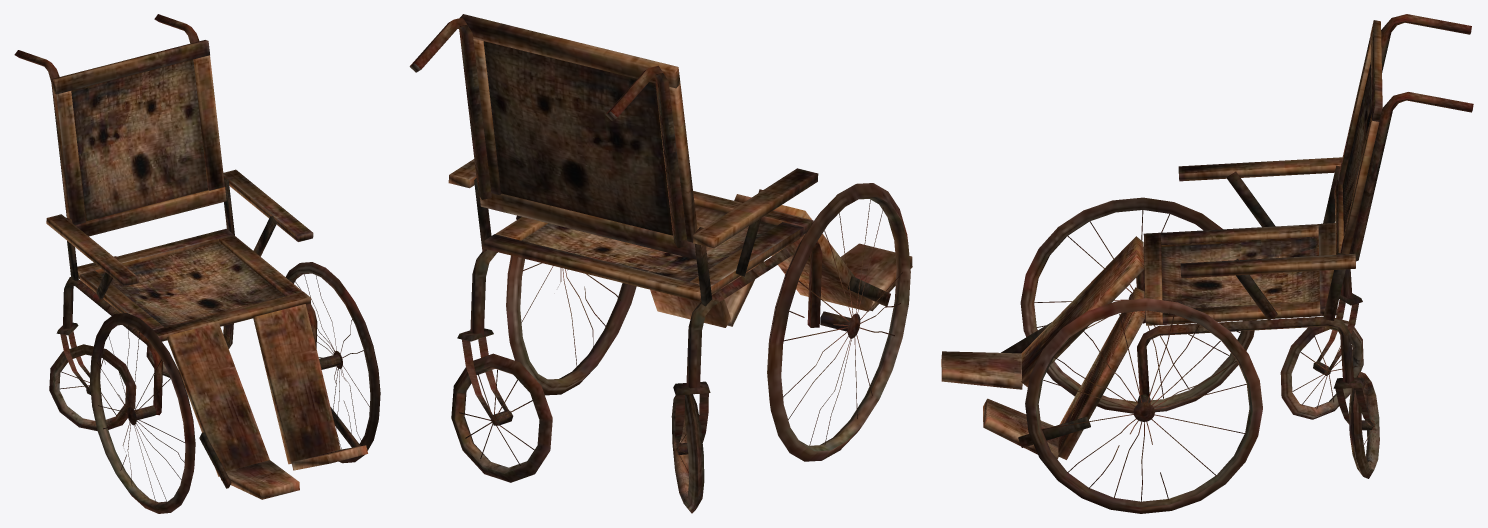
File: rusty wheelchair.fbx
3 views of the same model, side by side, from view 1: azimuth 30°, elevation 25°; view 2: azimuth 150°, elevation 25°; view 3: azimuth 270°, elevation 25° (orthographic). The views are drawn at different scales.
Visible parts, largest first — view 1: DrawCall_019_000_1, DrawCall_019_1, DrawCall_018_1, DrawCall_019_003_1, DrawCall_019_001_1; view 2: DrawCall_019_000_1, DrawCall_019_1, DrawCall_018_000_1, DrawCall_018_1, DrawCall_019_003_1, DrawCall_019_002_1, DrawCall_019_001_1; view 3: DrawCall_019_000_1, DrawCall_018_1, DrawCall_019_1, DrawCall_019_003_1, DrawCall_018_000_1, DrawCall_019_002_1, DrawCall_019_001_1.
Boxes of the visible parts, x1,y1,x2,y2 form: DrawCall_019_000_1: [14, 14, 367, 499]; DrawCall_019_1: [90, 313, 195, 513]; DrawCall_018_1: [285, 262, 380, 463]; DrawCall_019_003_1: [49, 344, 136, 430]; DrawCall_019_001_1: [56, 322, 90, 389]; DrawCall_019_000_1: [409, 14, 912, 388]; DrawCall_019_1: [767, 183, 910, 461]; DrawCall_018_000_1: [451, 353, 552, 482]; DrawCall_018_1: [506, 255, 636, 395]; DrawCall_019_003_1: [671, 394, 704, 513]; DrawCall_019_002_1: [457, 328, 508, 421]; DrawCall_019_001_1: [673, 381, 710, 448]; DrawCall_019_000_1: [941, 14, 1473, 459]; DrawCall_018_1: [1025, 298, 1262, 513]; DrawCall_019_1: [1020, 197, 1256, 413]; DrawCall_019_003_1: [1280, 318, 1363, 419]; DrawCall_018_000_1: [1349, 371, 1379, 478]; DrawCall_019_002_1: [1333, 377, 1373, 426]; DrawCall_019_001_1: [1317, 292, 1362, 369].
Size of the model in its own units: 0.7898 by 1.26 by 1.48.
